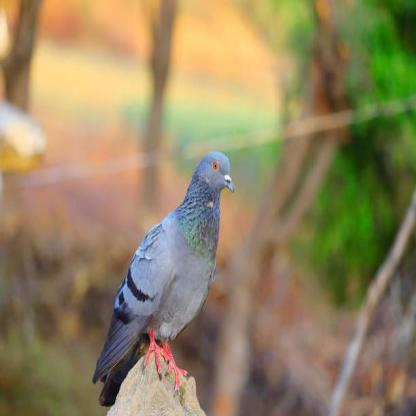Flying Rat: (81, 149, 236, 406)
